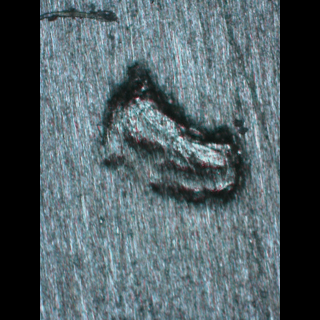Loch: (111, 56, 226, 204), (69, 3, 128, 33)
